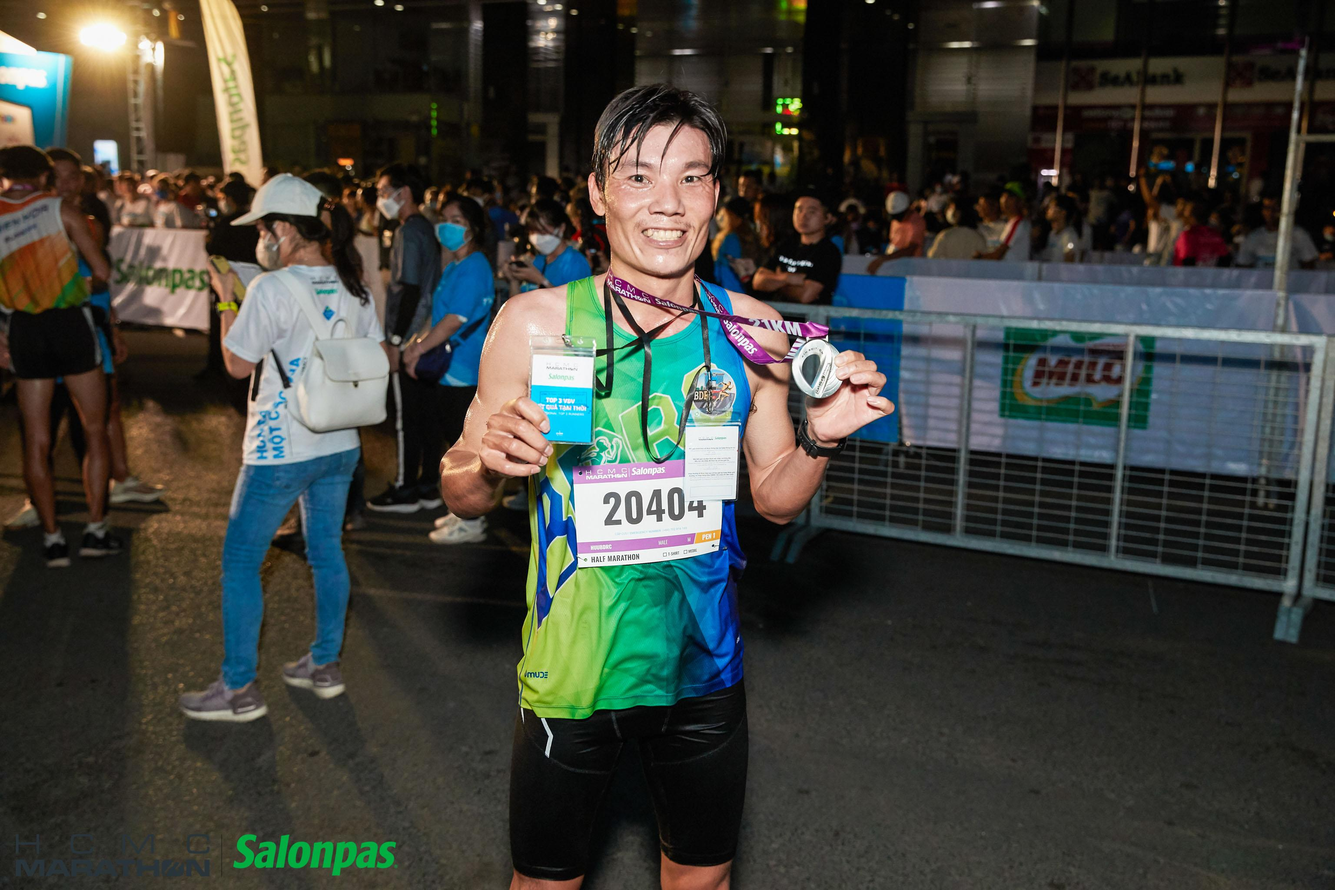bib: (571, 461, 724, 557)
